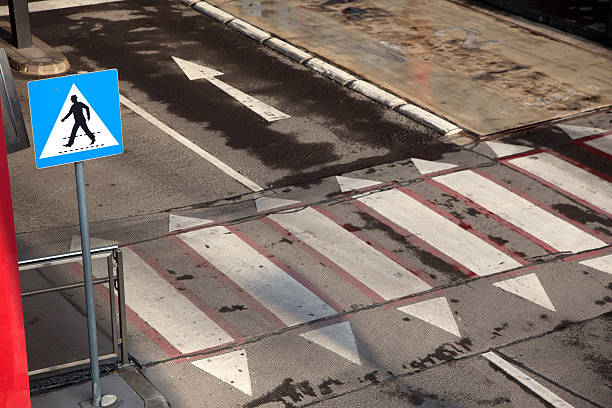yaya_gecidi: (22, 68, 129, 169)
